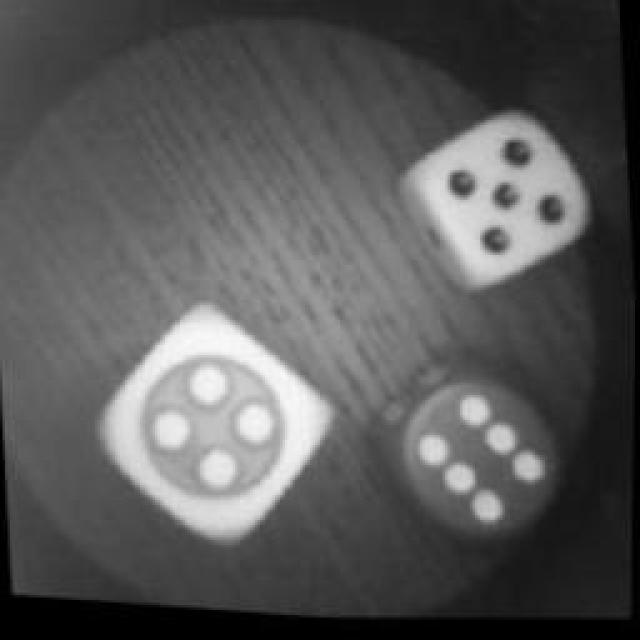dice_4: (86, 298, 332, 568)
dice_5: (384, 96, 604, 312)
dice_6: (368, 328, 582, 572)
